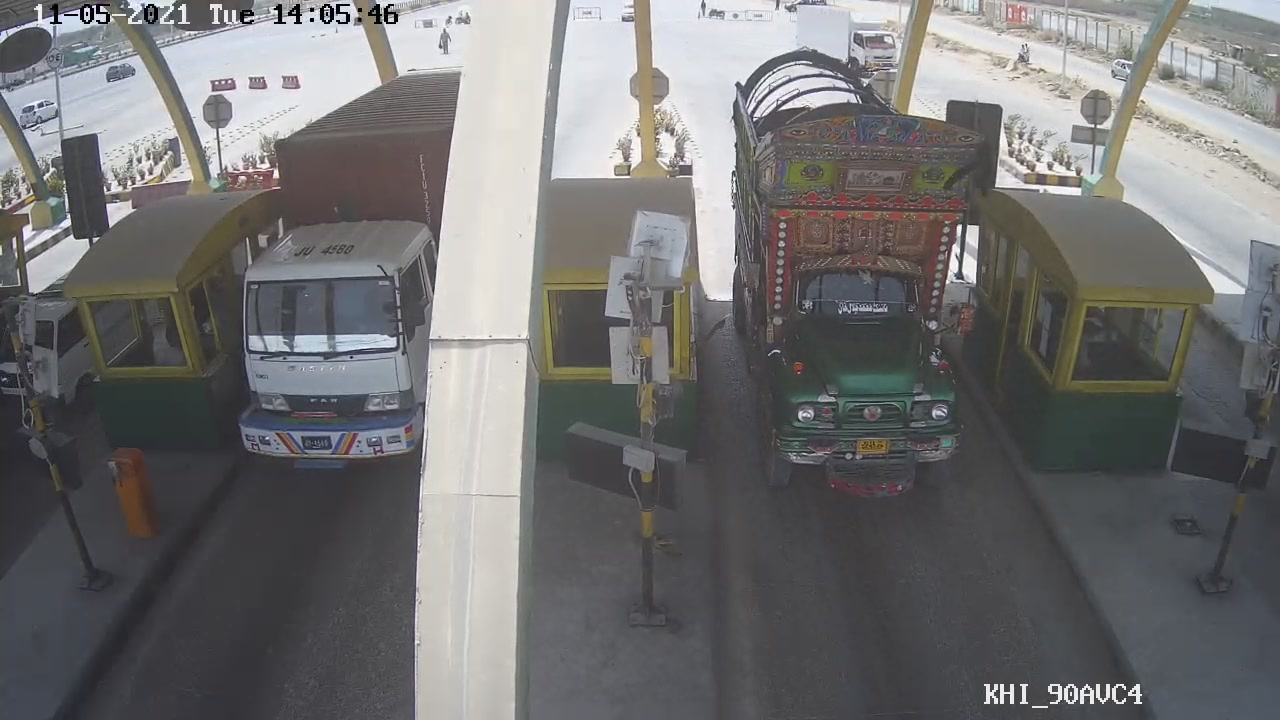F5: (727, 61, 998, 508)
